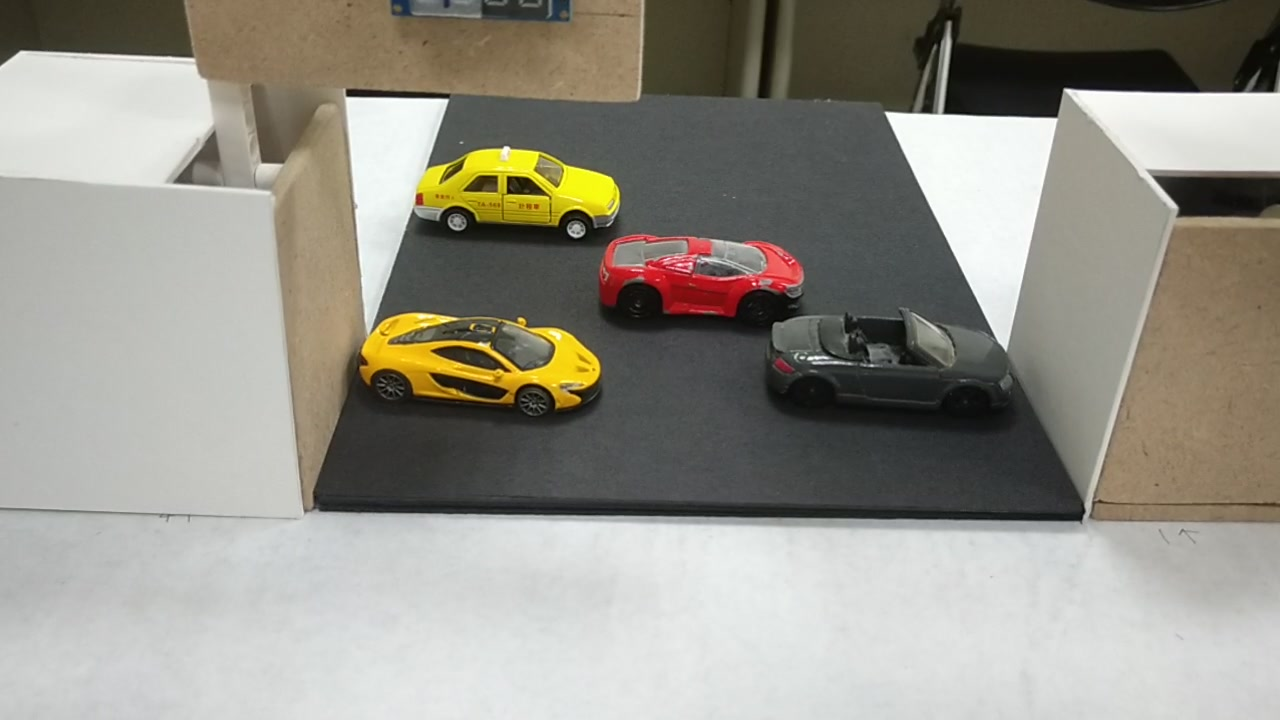car: (764, 314, 1019, 409), (354, 319, 599, 409), (410, 151, 622, 234), (595, 236, 801, 316)
